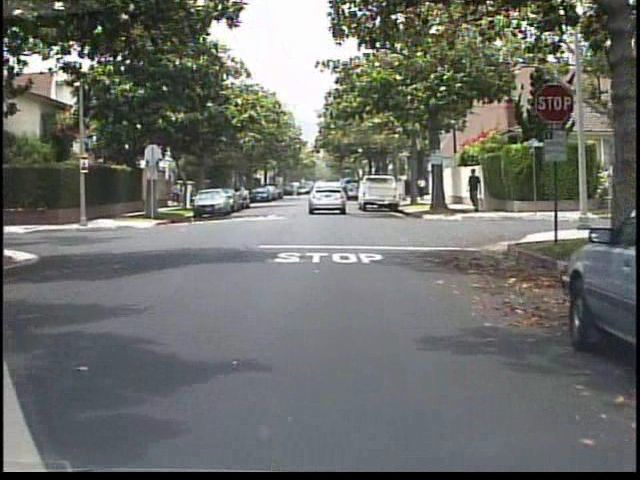person: (464, 165, 489, 218), (414, 172, 431, 205), (169, 179, 186, 208)
